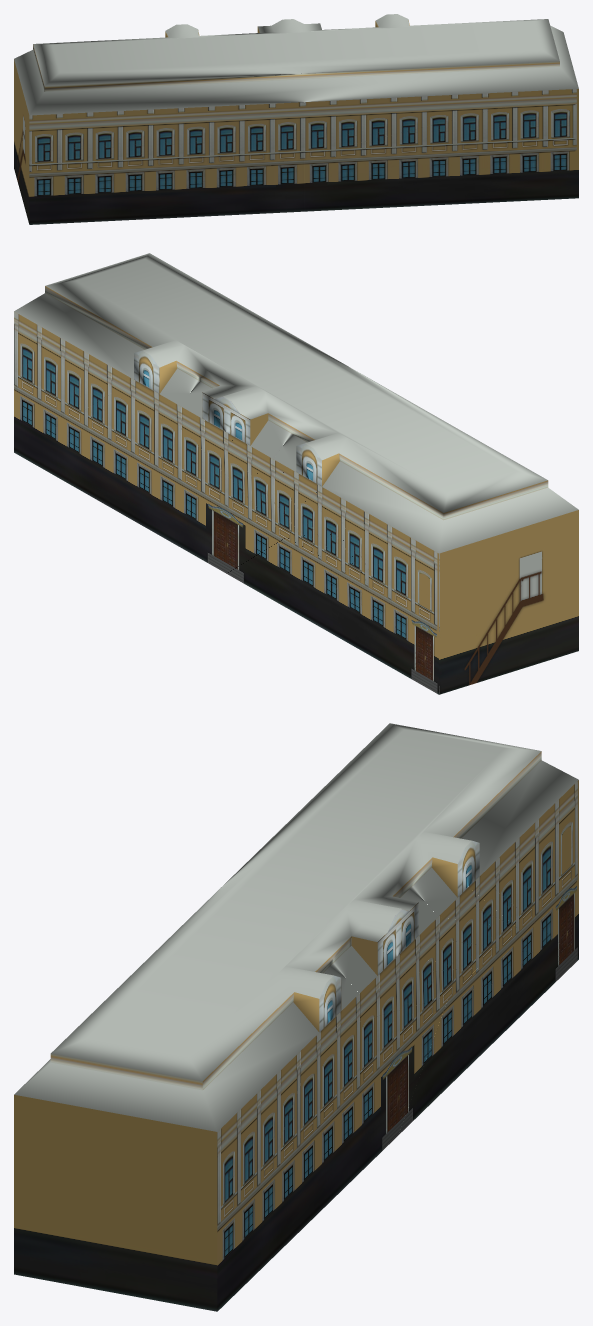
File: lp-building20.fbx
3 renders of one model, top to bottom at view 1: azimuth 30°, elevation 25°; view 2: azimuth 150°, elevation 25°; view 3: azimuth 270°, elevation 25°, orthographic. The views are drawn at different scales.
Visible parts, largest first — view 1: 01houses.029; view 2: 01houses.029; view 3: 01houses.029.
Boxes of the visible parts, bbox=[...] form: 01houses.029: bbox=[14, 14, 578, 224]; 01houses.029: bbox=[14, 253, 578, 694]; 01houses.029: bbox=[14, 723, 578, 1311].
Bounding box in the file's own units: 1587 × 426 × 973.
1 material, 1 textured.
